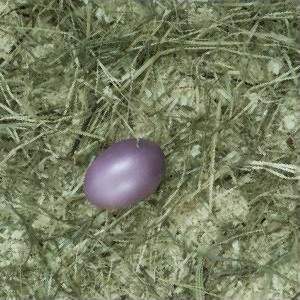egg: (84, 139, 165, 209)
